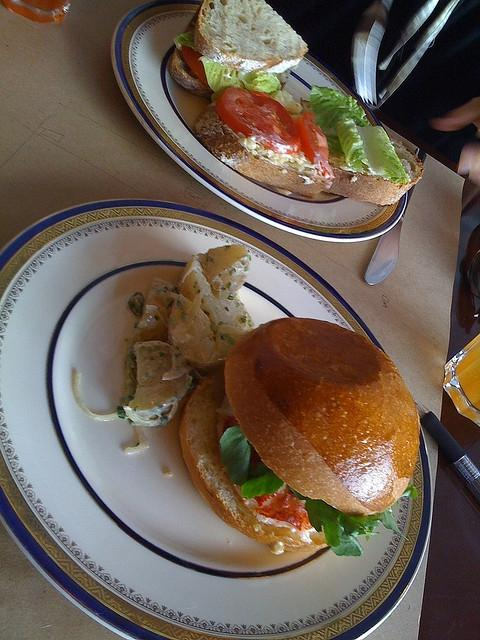lettuce: (310, 84, 408, 184), (176, 31, 290, 102), (288, 486, 382, 556), (220, 424, 252, 486), (241, 468, 284, 499)
onion: (72, 371, 118, 421), (172, 290, 203, 343), (123, 425, 148, 454), (123, 406, 159, 426)
potato: (179, 269, 257, 356), (128, 340, 193, 411), (206, 245, 250, 300), (131, 300, 171, 342)
tomato: (215, 88, 300, 154), (296, 112, 335, 182), (181, 25, 212, 90)
